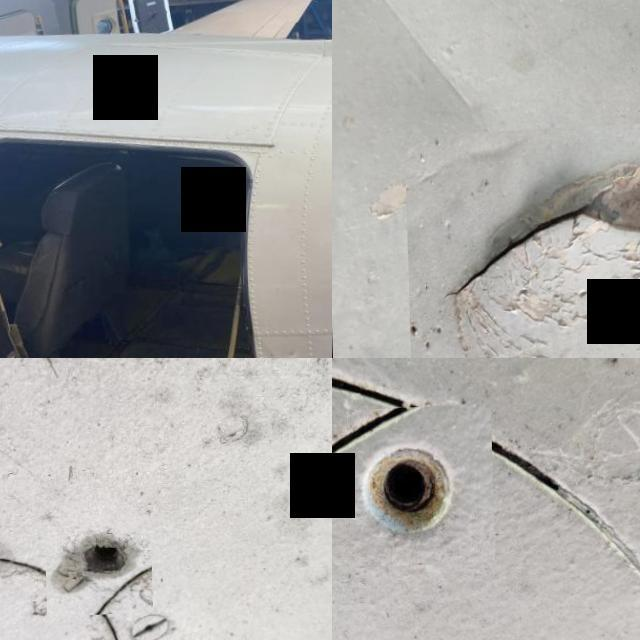Crack: (402, 122, 640, 358)
Dent: (277, 349, 296, 358)
Missing_Fastener: (332, 407, 493, 571), (42, 510, 150, 620)
